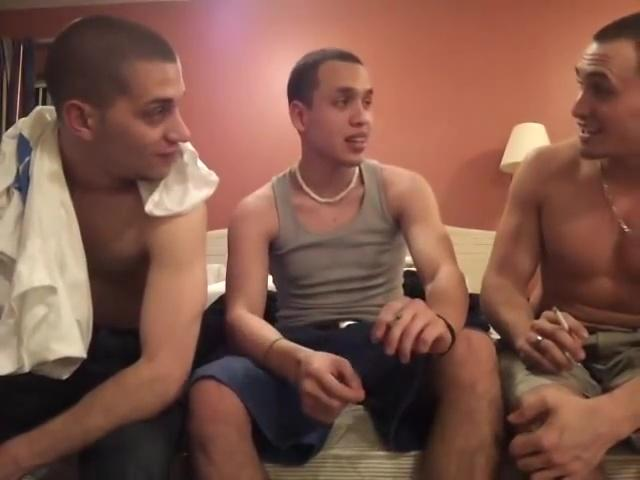cigarette: (554, 306, 574, 334)
